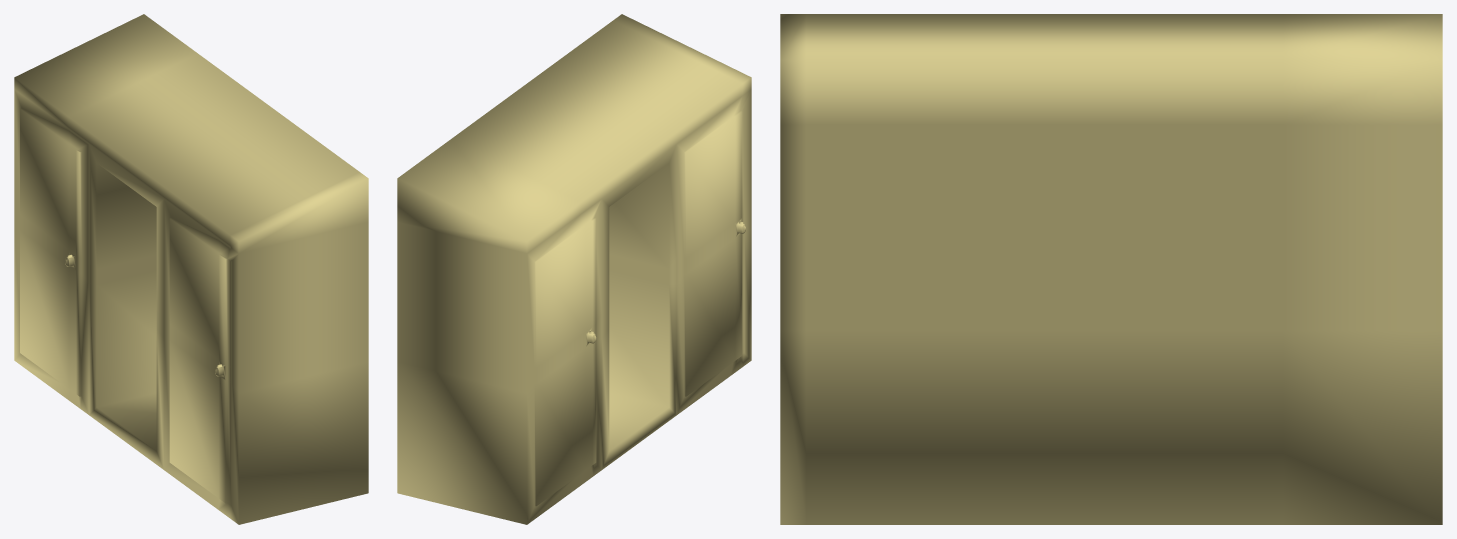
File: Lockers.fbx
3 views of the same model, side by side, from view 1: azimuth 30°, elevation 25°; view 2: azimuth 150°, elevation 25°; view 3: azimuth 270°, elevation 25° (orthographic). The views are drawn at different scales.
Parts seen in each view (by area): view 1: Lockers:Box001; view 2: Lockers:Box001; view 3: Lockers:Box001.
Part boxes in pixels (x1,y1,x2,y2): Lockers:Box001: (14, 14, 368, 524); Lockers:Box001: (397, 14, 751, 524); Lockers:Box001: (780, 14, 1442, 524).
Size of the model in its own units: 10.67 by 23.22 by 30.
